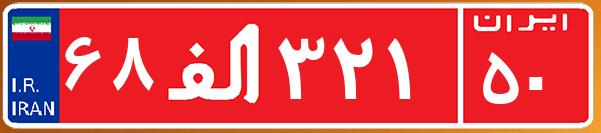0: (525, 38, 570, 115)
1: (385, 28, 445, 110)
2: (330, 28, 385, 110)
3: (273, 28, 330, 110)
5: (475, 38, 525, 113)
6: (57, 26, 110, 107)
8: (110, 28, 158, 105)
الف: (158, 15, 273, 115)
